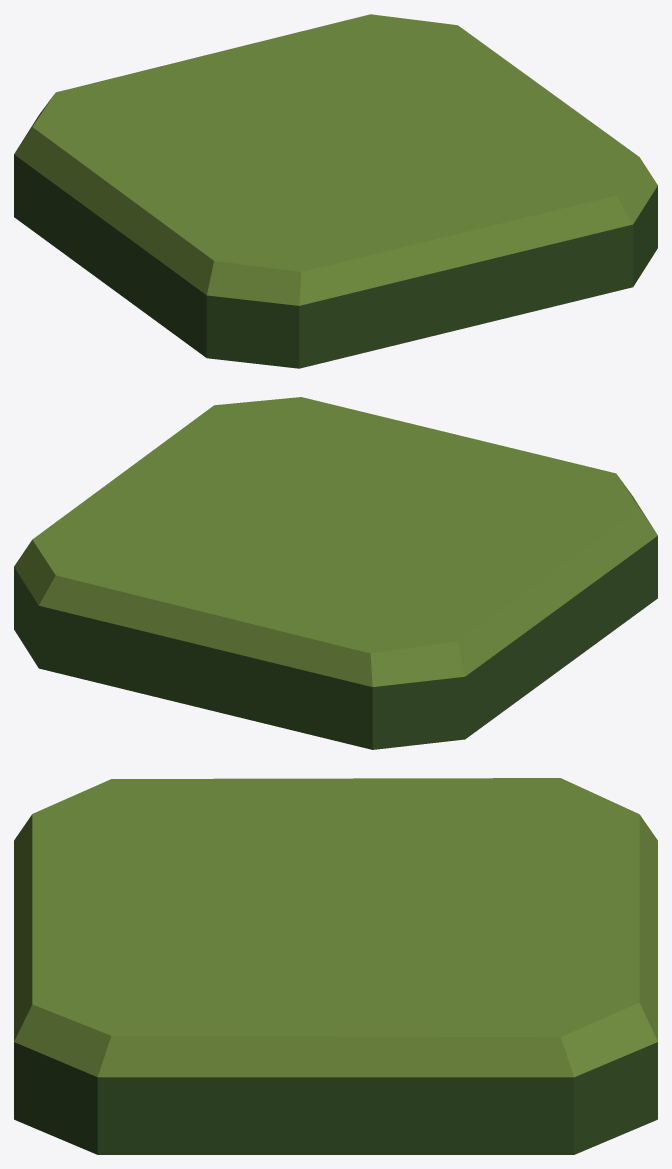
The model's file is gf_paver_d.glb.
The picture shows the model from 3 angles, top to bottom: view 1: azimuth 30°, elevation 25°; view 2: azimuth 150°, elevation 25°; view 3: azimuth 270°, elevation 25°; orthographic projection. The views are drawn at different scales.
Visible parts, largest first — view 1: gf_paver_d; view 2: gf_paver_d; view 3: gf_paver_d.
Boxes of the visible parts, left/top/right/bottom form: gf_paver_d: left=14, top=14, right=657, bottom=368; gf_paver_d: left=14, top=397, right=657, bottom=749; gf_paver_d: left=14, top=778, right=657, bottom=1154.
Size of the model in its own units: 0.2 by 0.0386 by 0.2.
